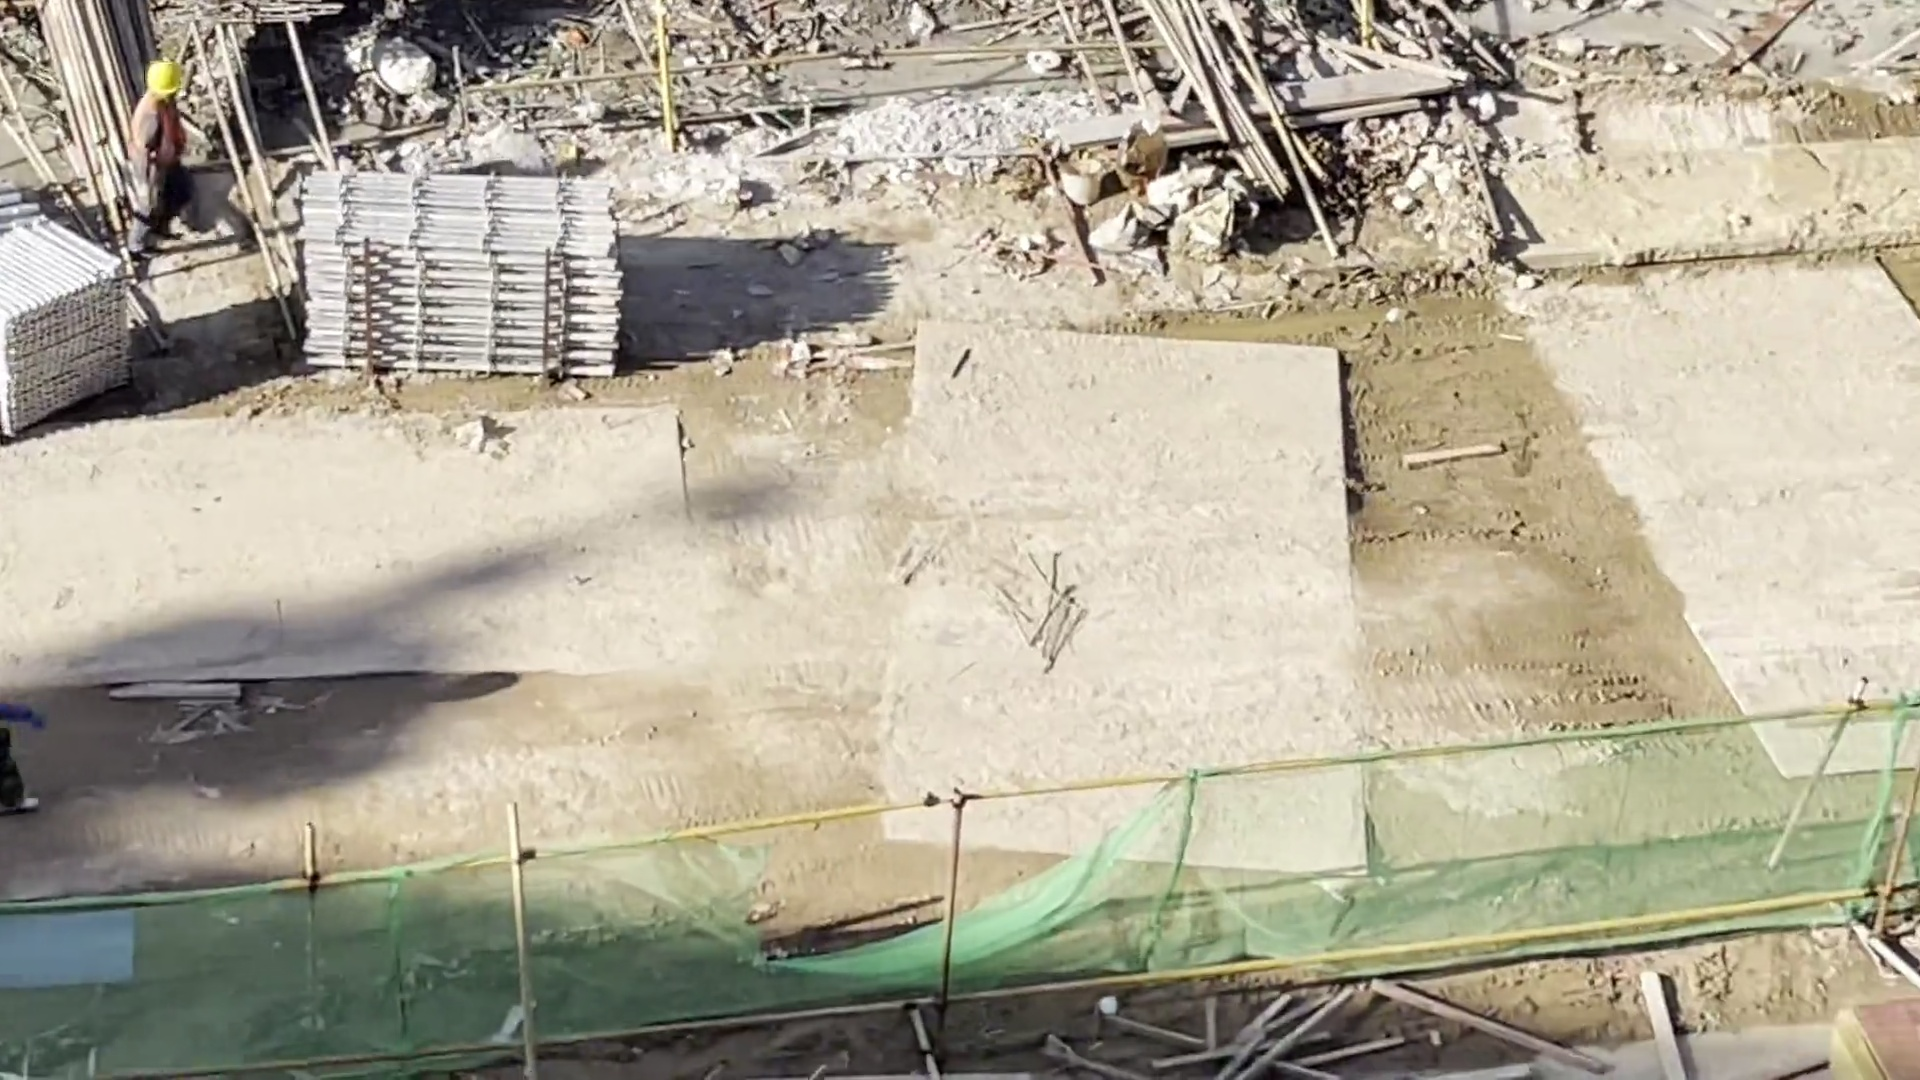board: (1817, 989, 1919, 1080)
scaffold: (274, 156, 633, 400), (7, 212, 141, 448)
